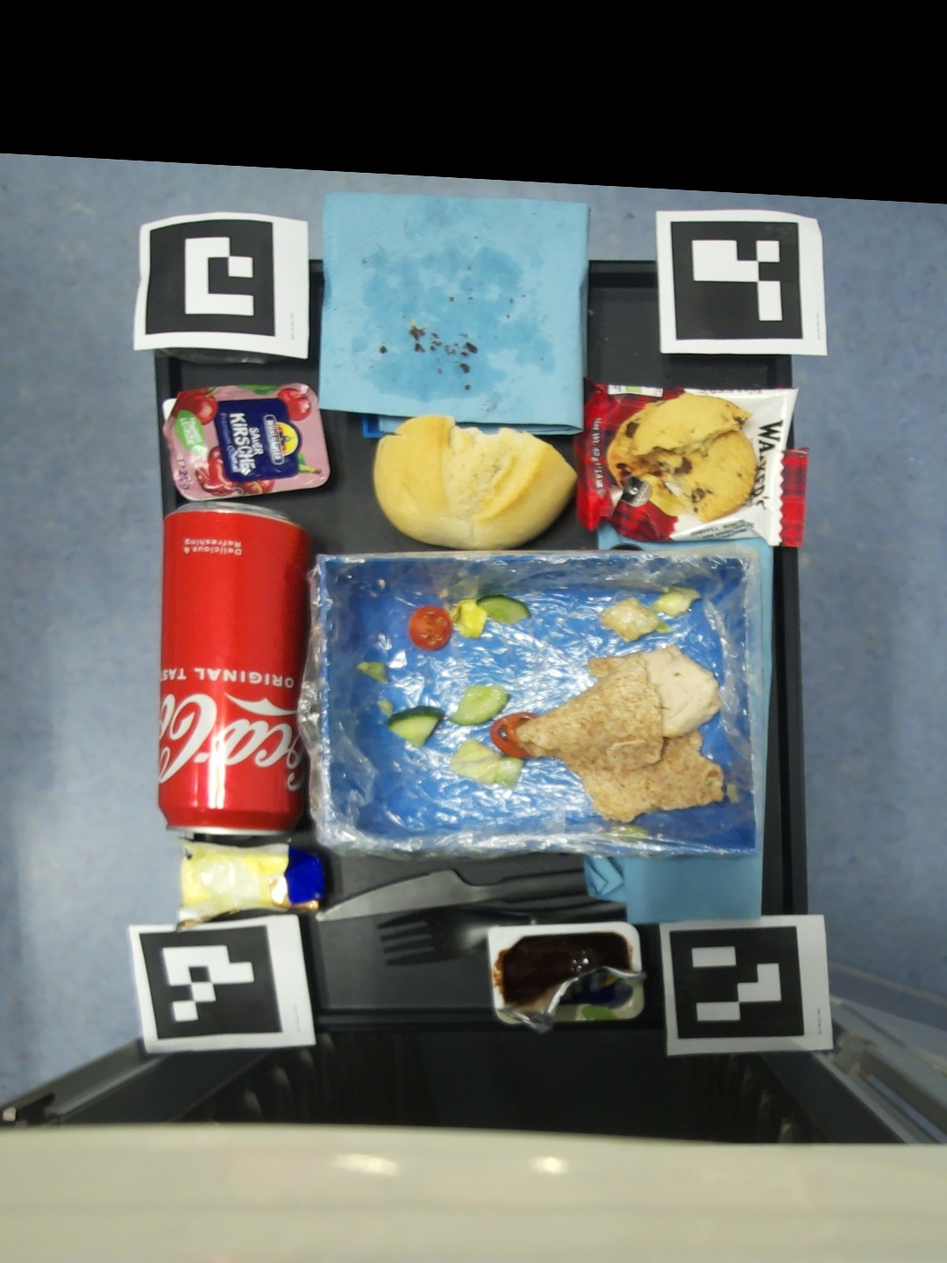bread_roll: (373, 415, 578, 543)
butter: (173, 837, 324, 931)
cherry_jam: (162, 383, 331, 501)
cola_can: (163, 505, 313, 846)
cookie: (573, 377, 809, 547)
plum_jam: (488, 922, 645, 1033)
wrap_half_1: (448, 644, 725, 825), (409, 595, 531, 649), (601, 585, 701, 642), (449, 686, 508, 725), (387, 707, 444, 747), (355, 662, 386, 684), (726, 783, 739, 803), (375, 701, 393, 715)
